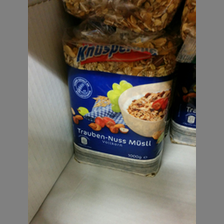cereal: (61, 38, 174, 178)
